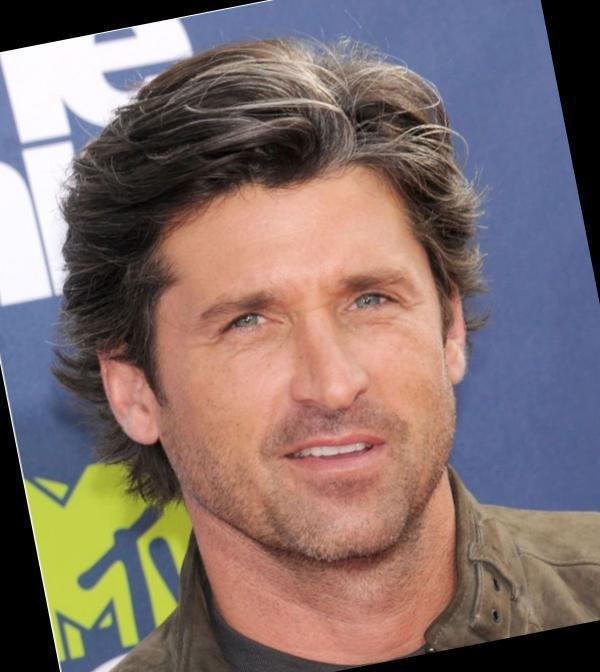Sober: (155, 185, 462, 562)
